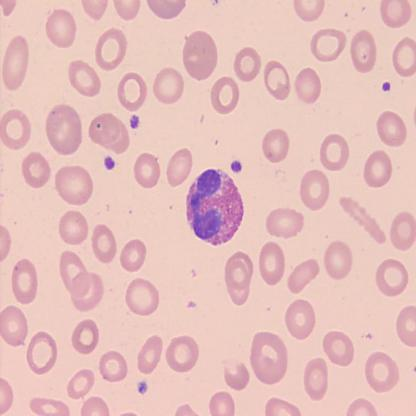Eosinophil: (185, 168, 244, 250)
